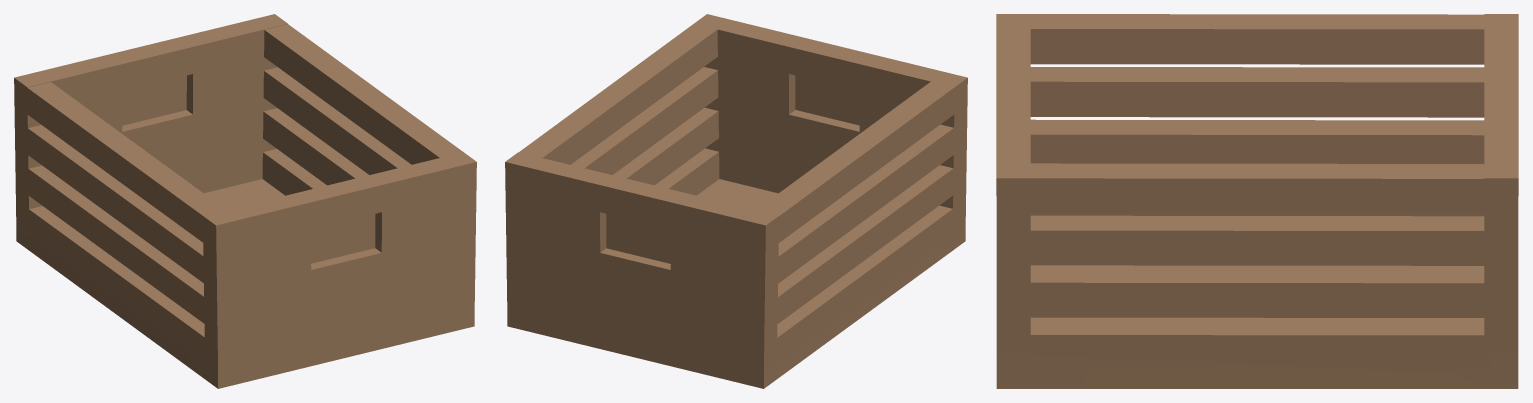
The model's file is Crate.fbx.
The picture shows the model from 3 angles, left to right: view 1: azimuth 30°, elevation 25°; view 2: azimuth 150°, elevation 25°; view 3: azimuth 270°, elevation 25°; orthographic projection. The views are drawn at different scales.
Visible parts, largest first — view 1: Crate; view 2: Crate; view 3: Crate.
Part boxes in pixels (x1=…): Crate: x1=14, y1=14, x2=476, y2=388; Crate: x1=505, y1=14, x2=967, y2=388; Crate: x1=996, y1=14, x2=1518, y2=388.
Bounding box in the file's own units: 0.915 × 0.55 × 1.23.
